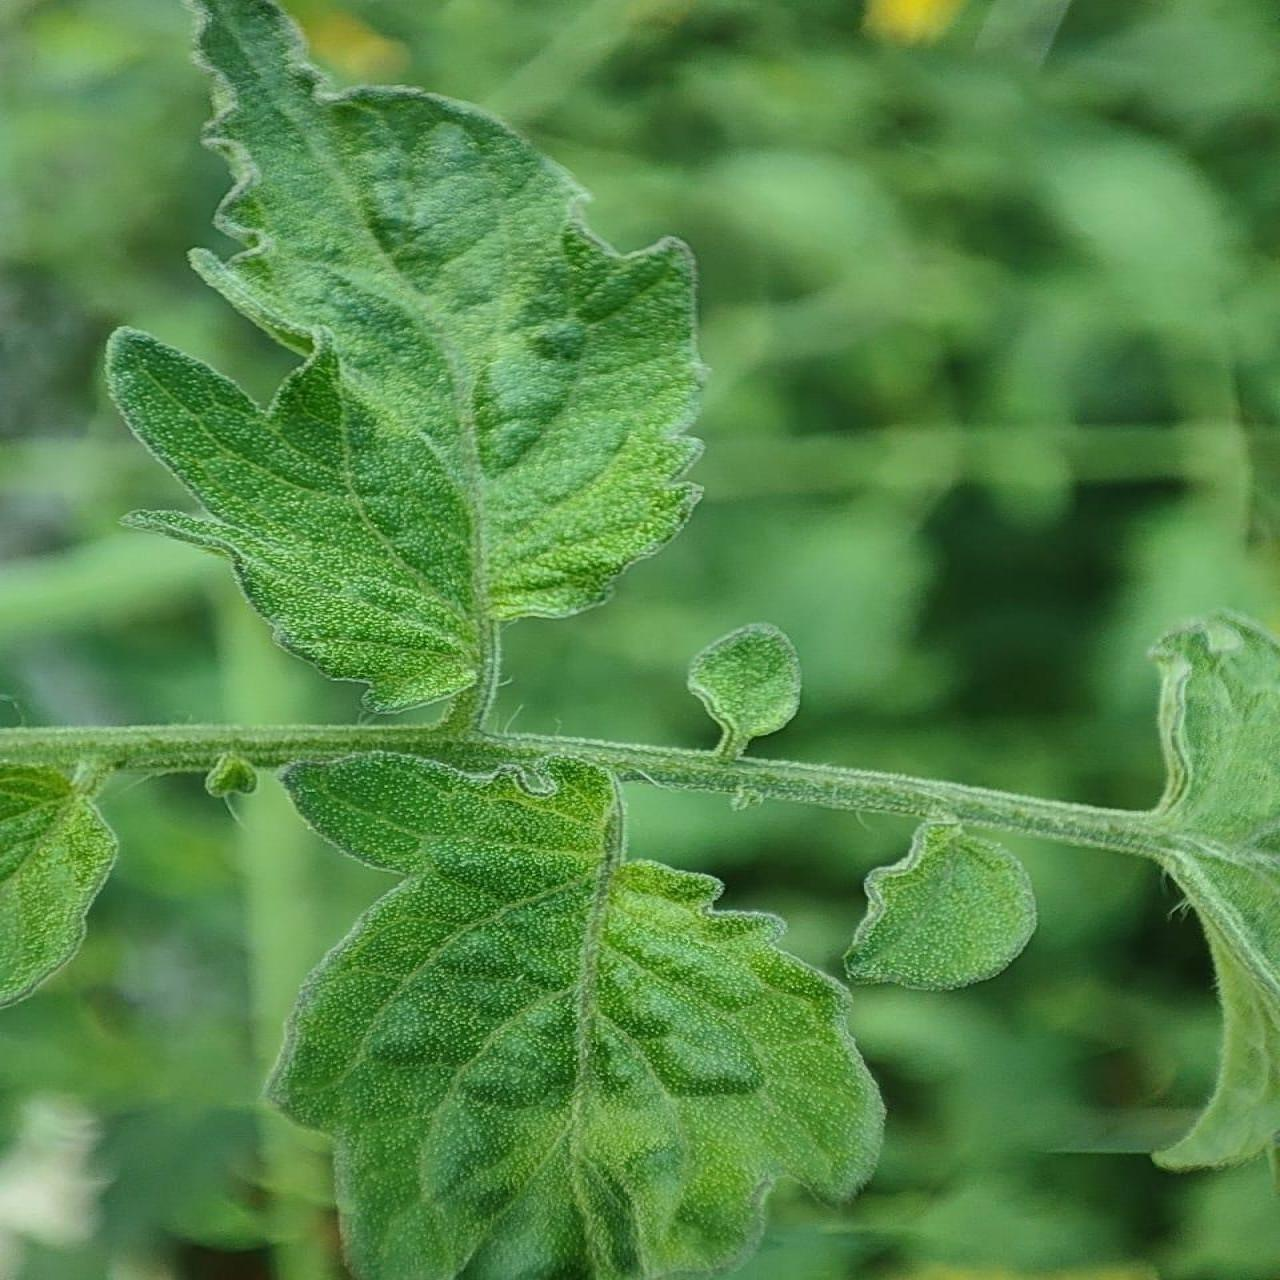T_L_R: (108, 1, 701, 740), (270, 747, 881, 1280)
T_S_R: (1, 726, 1162, 860)
